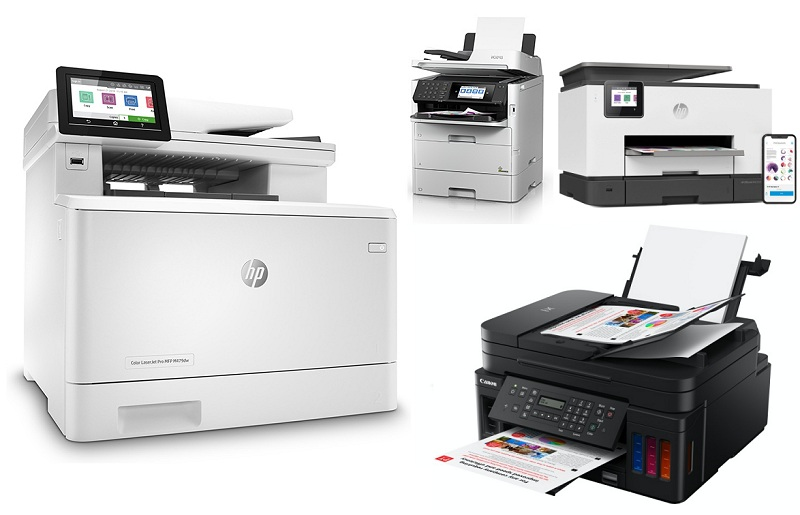printer: (21, 59, 405, 451), (455, 246, 774, 515), (557, 50, 770, 209), (410, 30, 547, 206)
